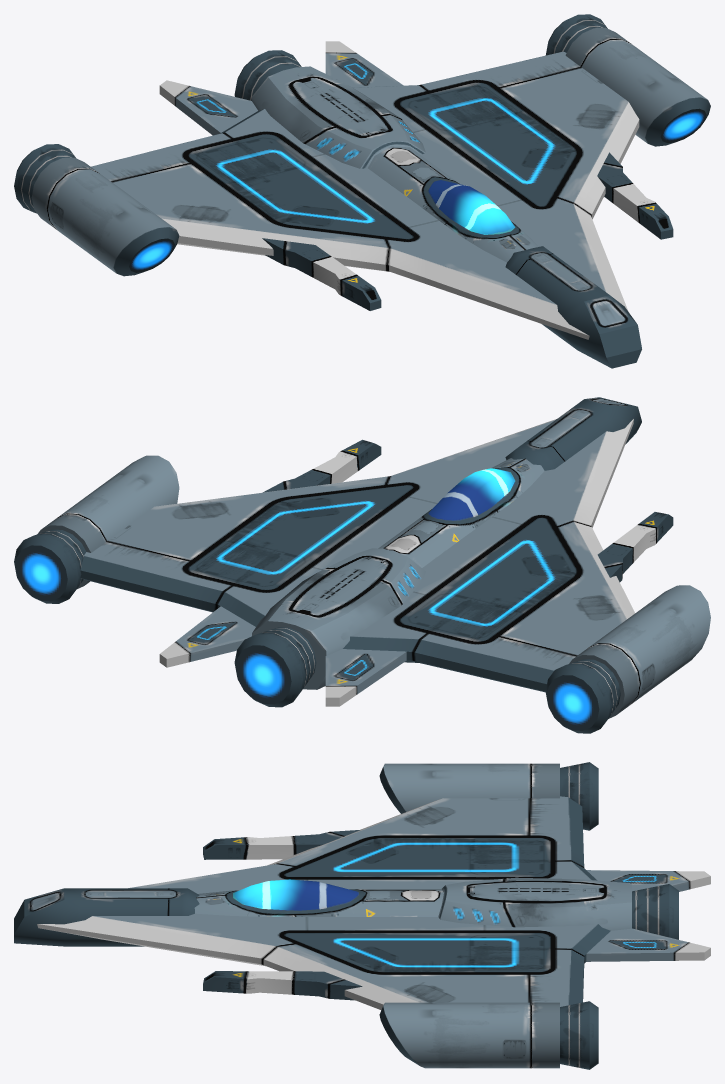
The model's file is WhiteLaser.fbx.
3 views of the same model, one above another, from view 1: azimuth 30°, elevation 25°; view 2: azimuth 150°, elevation 25°; view 3: azimuth 270°, elevation 25° (orthographic). The views are drawn at different scales.
Parts seen in each view (by area): view 1: StarSparrow11; view 2: StarSparrow11; view 3: StarSparrow11.
Boxes of the visible parts, x1,y1,x2,y2 form: StarSparrow11: (14, 14, 710, 368); StarSparrow11: (14, 397, 710, 733); StarSparrow11: (14, 762, 710, 1069).
Size of the model in its own units: 1195 by 150 by 1312.
Materials: 1 (1 with a texture image).
